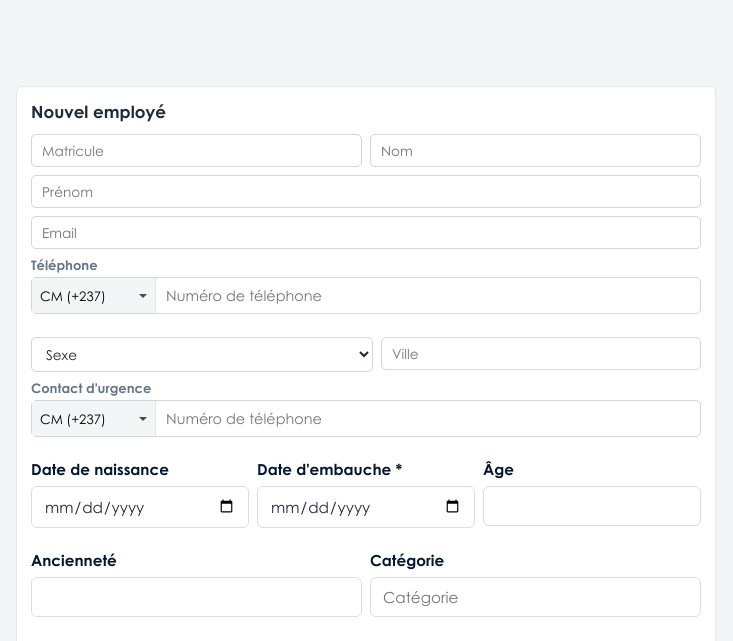
EmployeeForm › phone country code dropdown renders country names without broken characters
The image size is (733, 641).
Click the button with aria-label "choisir le code pays" at (94, 296), box [32,278,156,313]
(page scrolled)
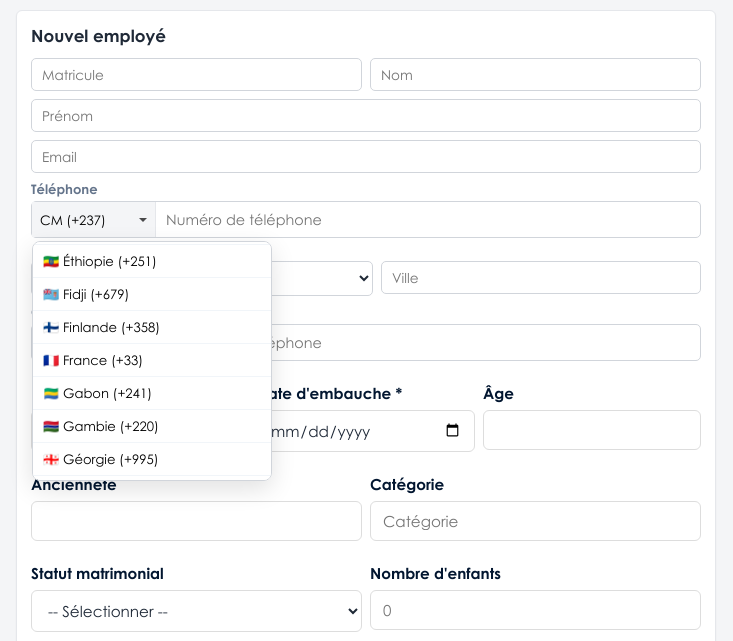
Result: the button "🇫🇷 France (+33)" is shown at [33,344,271,377]
